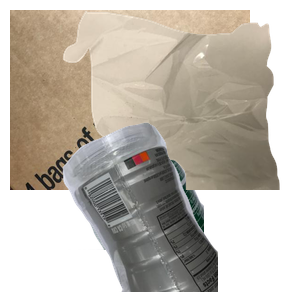cardboard: (10, 10, 250, 190)
glass: (60, 120, 300, 300)
plastic: (60, 120, 300, 300)
trash: (61, 10, 300, 190)
